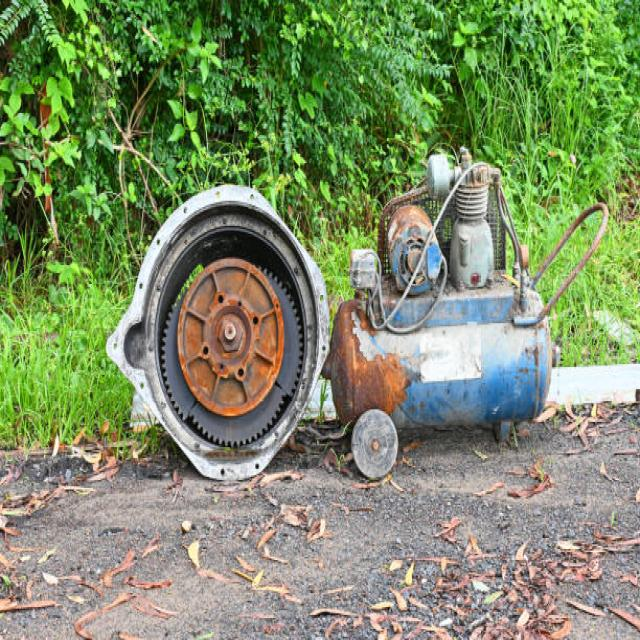compressor: (132, 134, 636, 471)
corrosion detected: (322, 144, 559, 447), (174, 256, 286, 420), (446, 158, 496, 292), (384, 202, 444, 298), (348, 406, 399, 483)
